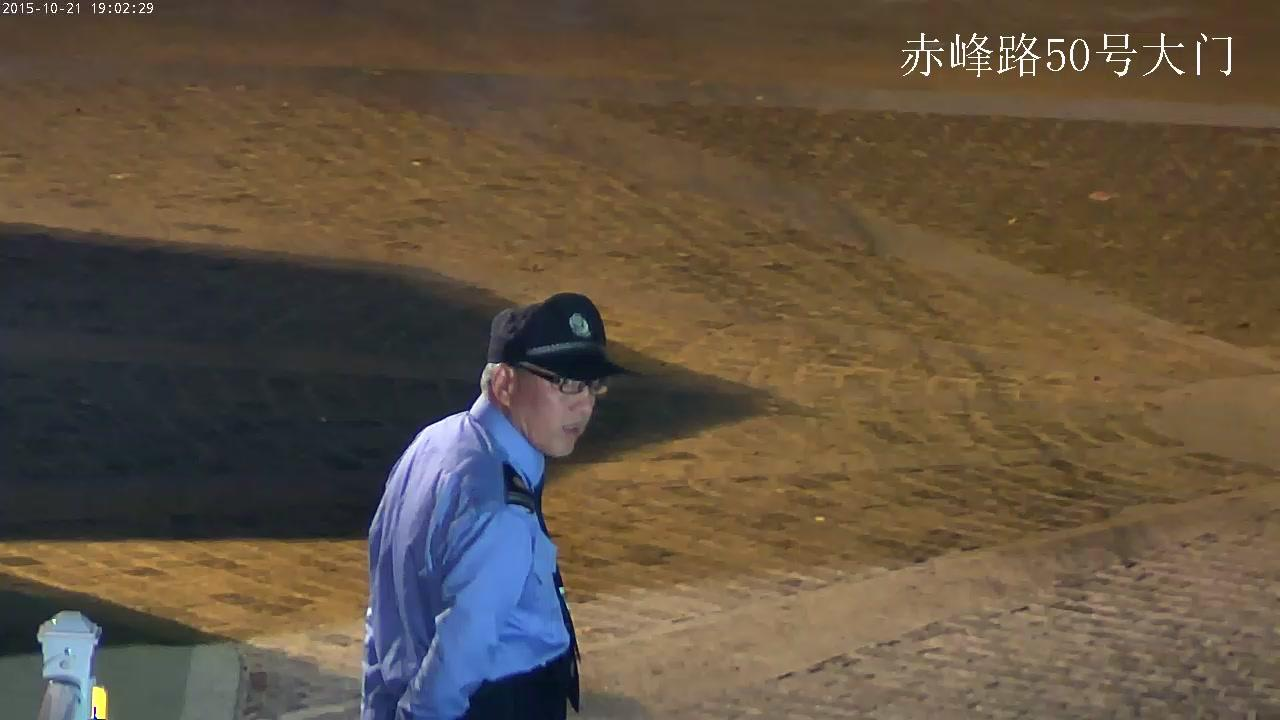face: (515, 361, 601, 456)
